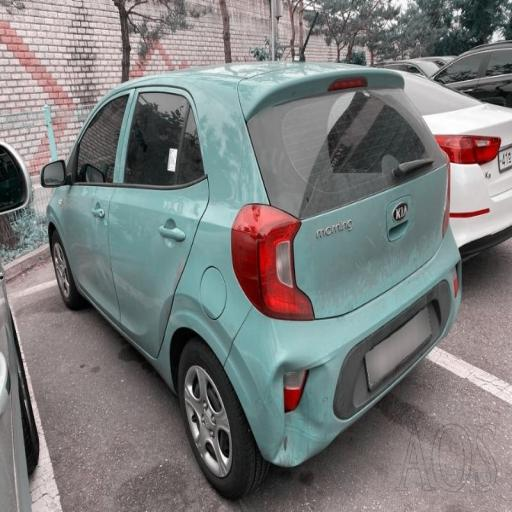broken: (202, 276, 361, 474)
